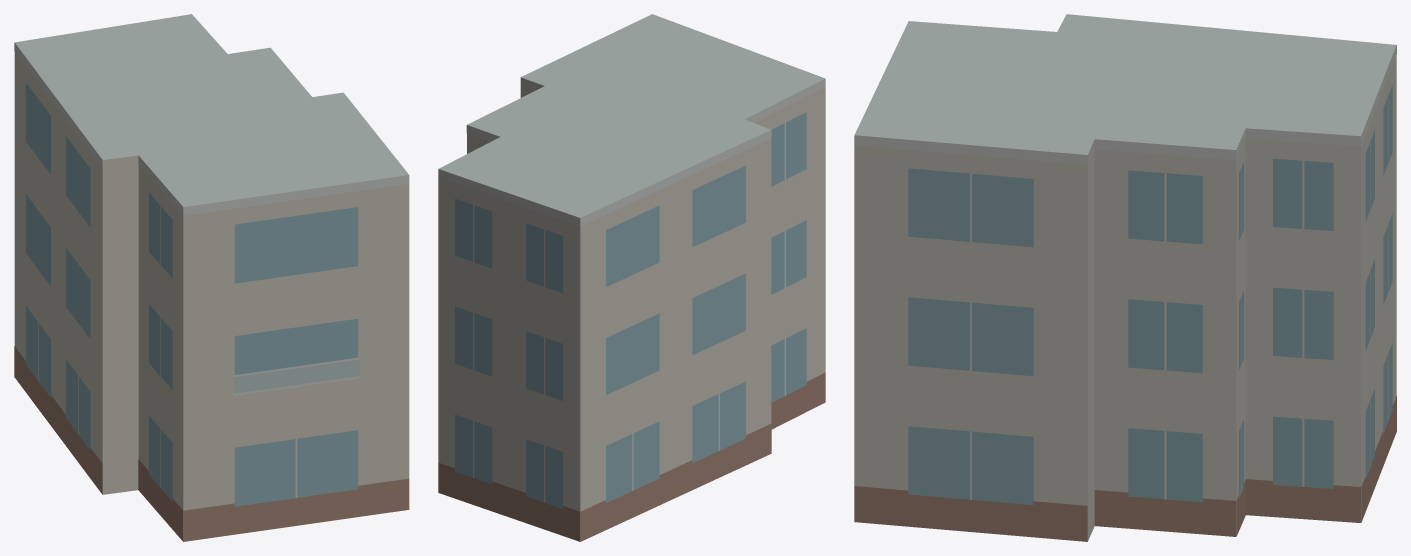
The model's file is survey-upis-32477439.glb.
3 renders of one model, left to right at view 1: azimuth 30°, elevation 25°; view 2: azimuth 150°, elevation 25°; view 3: azimuth 270°, elevation 25°, orthographic. The views are drawn at different scales.
Parts seen in each view (by area): view 1: survey-upis-32477439.tmp; view 2: survey-upis-32477439.tmp; view 3: survey-upis-32477439.tmp.
Part boxes in pixels (x1,y1,x2,y2): survey-upis-32477439.tmp: (14, 14, 409, 541); survey-upis-32477439.tmp: (438, 14, 825, 541); survey-upis-32477439.tmp: (854, 14, 1396, 541).
Size of the model in its own units: 7.28 by 9.3 by 11.83.
